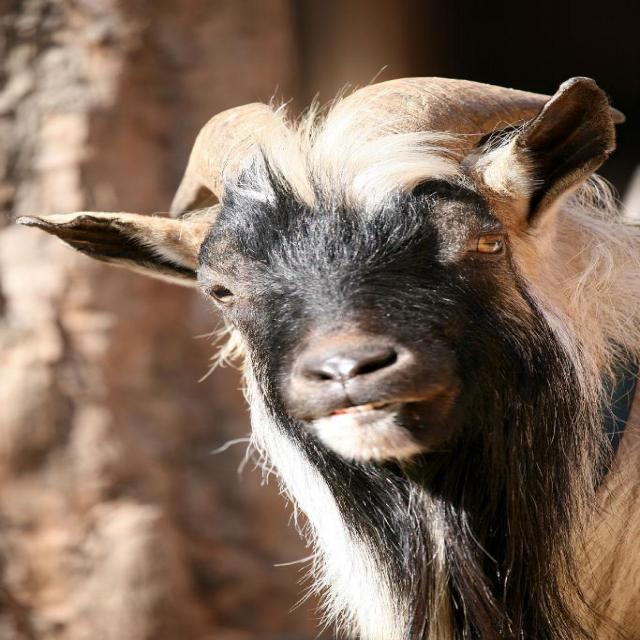Goat: (21, 78, 640, 640)
